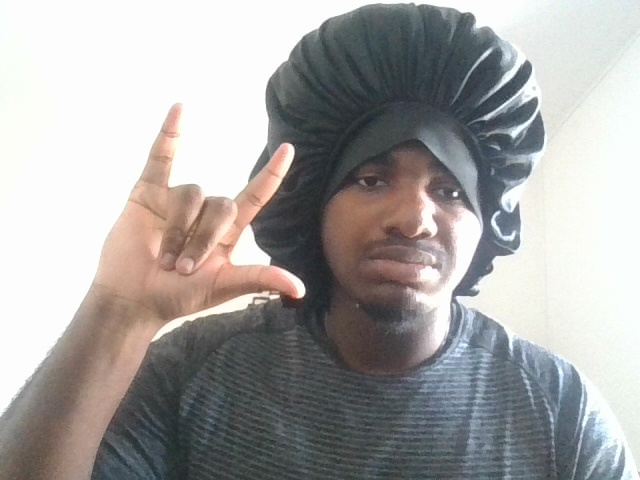I Love You: (79, 86, 316, 324)
